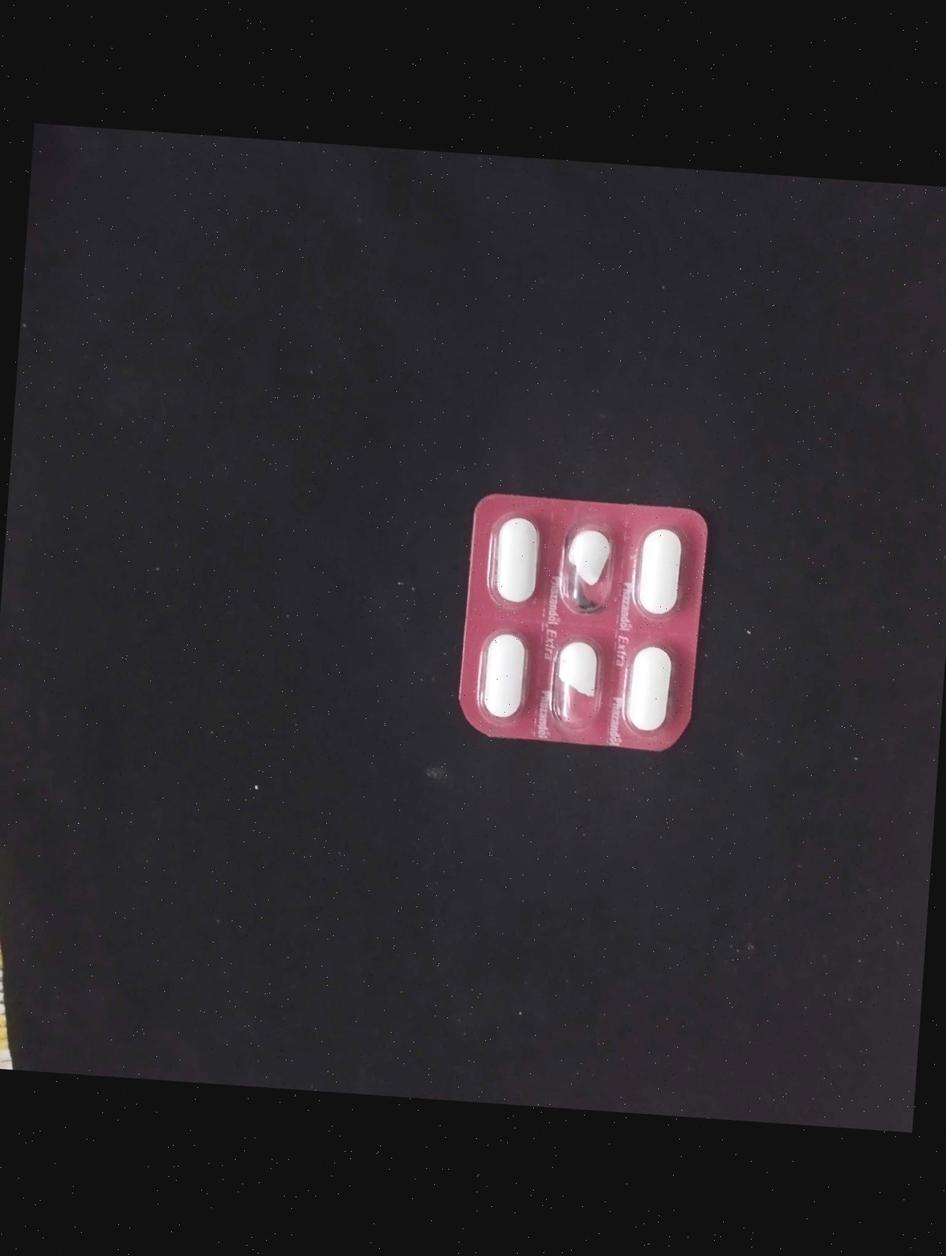Full: (480, 511, 552, 610), (616, 638, 680, 740), (627, 521, 691, 620), (470, 628, 537, 720)
Partial: (551, 519, 621, 619), (547, 629, 606, 731)
